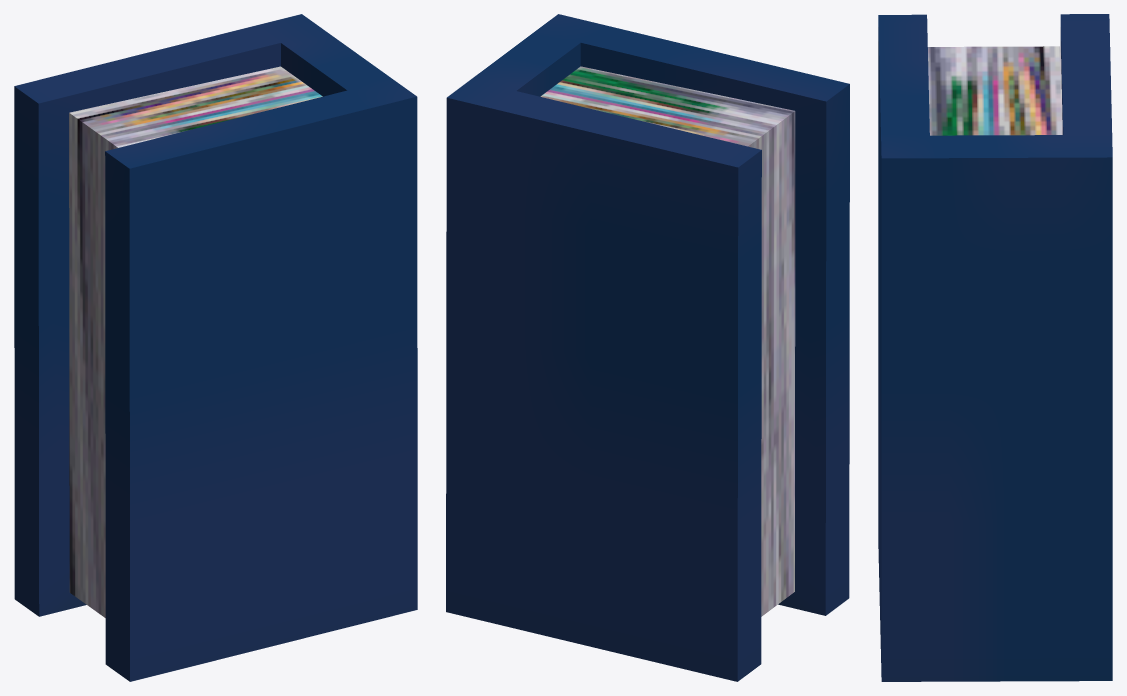
The model's file is object_24_lev1.glb.
3 views of the same model, side by side, from view 1: azimuth 30°, elevation 25°; view 2: azimuth 150°, elevation 25°; view 3: azimuth 270°, elevation 25° (orthographic).
Visible parts, largest first — view 1: object_24_lev1; view 2: object_24_lev1; view 3: object_24_lev1.
Boxes of the visible parts, x1,y1,x2,y2 form: object_24_lev1: (14, 14, 417, 681); object_24_lev1: (446, 14, 849, 681); object_24_lev1: (878, 14, 1112, 681).
Size of the model in its own units: 0.2213 by 0.3723 by 0.1511.
1 material, 1 textured.
